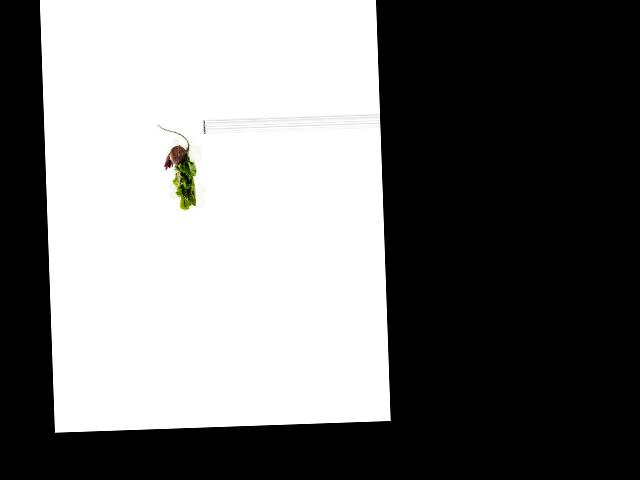beet: (157, 122, 190, 170)
